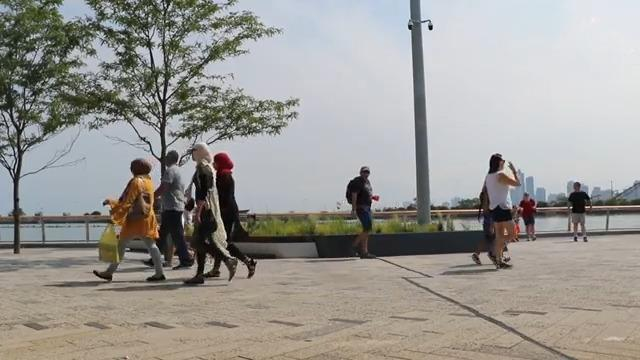no-helmet: (191, 142, 212, 163), (488, 153, 506, 174), (359, 166, 370, 179)
